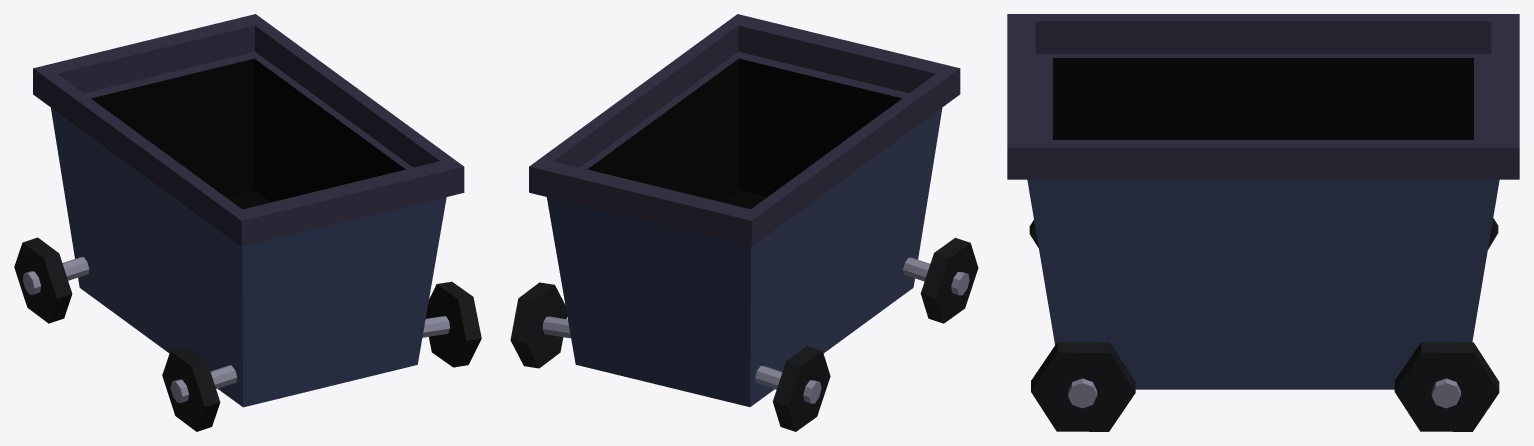
Rendered from carro mina.fbx.
The picture shows the model from 3 angles, left to right: view 1: azimuth 30°, elevation 25°; view 2: azimuth 150°, elevation 25°; view 3: azimuth 270°, elevation 25°; orthographic projection. The views are drawn at different scales.
Visible parts, largest first — view 1: Cube; view 2: Cube; view 3: Cube.
Boxes of the visible parts, box(x1,y1,x2,y2) form: Cube: box(14, 14, 481, 431); Cube: box(510, 14, 978, 431); Cube: box(1007, 14, 1519, 431).
Size of the model in its own units: 335 by 240 by 414.
